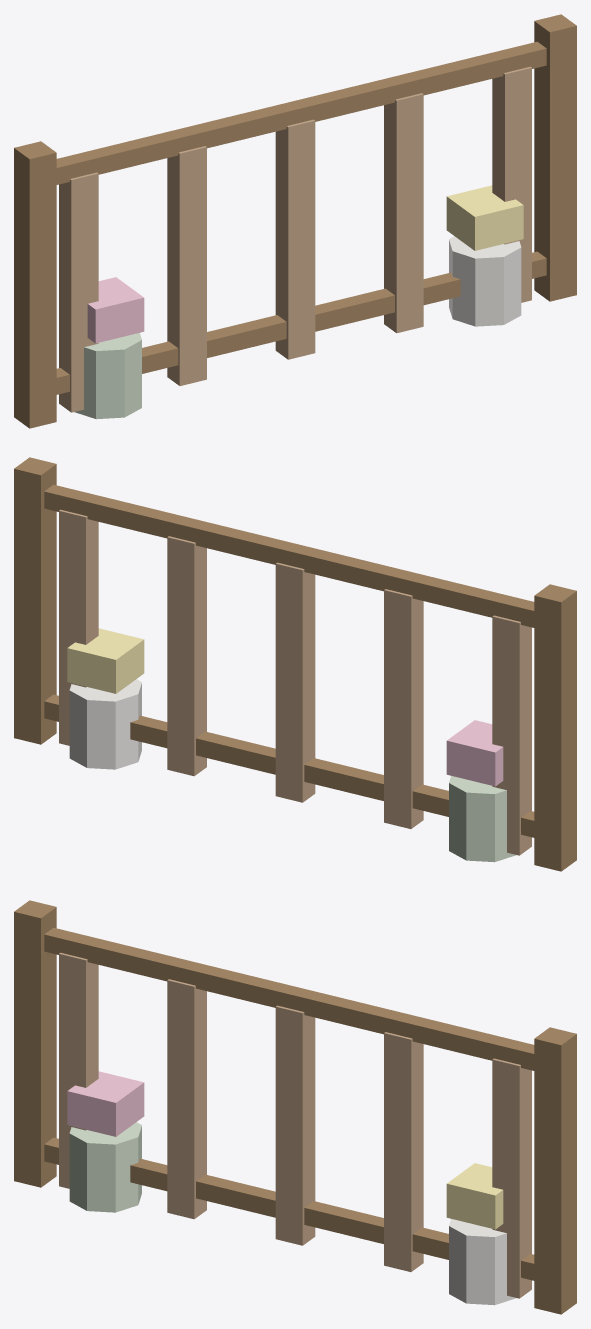
The model's file is fence_pots.glb.
The picture shows the model from 3 angles, top to bottom: view 1: azimuth 30°, elevation 25°; view 2: azimuth 150°, elevation 25°; view 3: azimuth 330°, elevation 25°; orthographic projection.
Visible parts, largest first — view 1: FenceAndPots; view 2: FenceAndPots; view 3: FenceAndPots.
Part boxes in pixels (bbox=[...]): FenceAndPots: bbox=[14, 14, 576, 428]; FenceAndPots: bbox=[14, 457, 576, 871]; FenceAndPots: bbox=[14, 900, 576, 1314].
Bounding box in the file's own units: 2.02 × 0.955 × 0.24.
